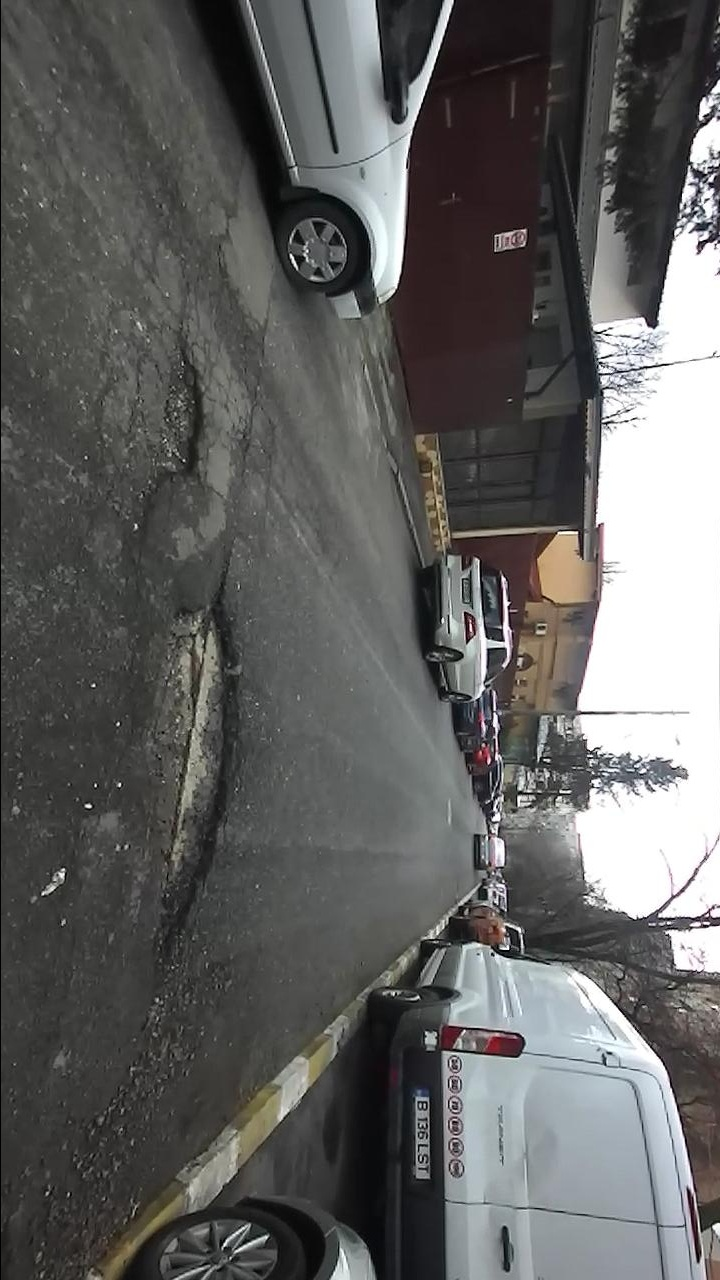pothole: (126, 584, 249, 982), (137, 337, 211, 522)
